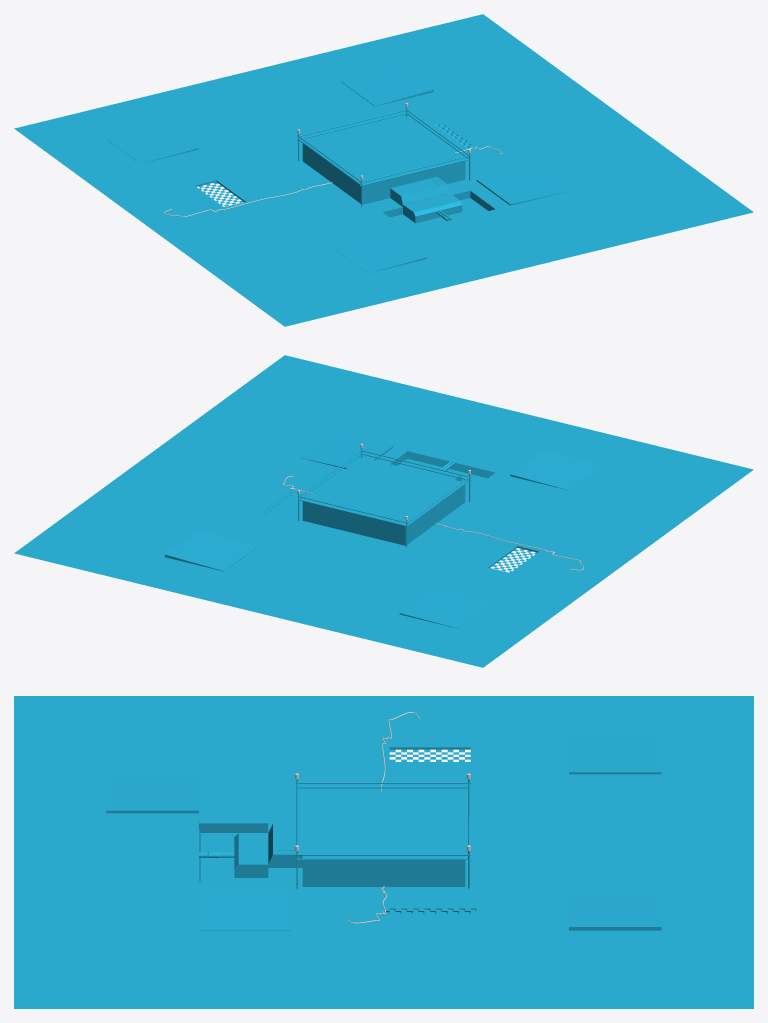
The model's file is world.glb.
3 renders of one model, top to bottom at view 1: azimuth 30°, elevation 25°; view 2: azimuth 150°, elevation 25°; view 3: azimuth 270°, elevation 25°, orthographic. The views are drawn at different scales.
Visible parts, largest first — view 1: Plane, Cube, Cube.001, Cube.002; view 2: Plane, Cube; view 3: Plane, Cube, Cube.001, Cube.003, Cube.002.
Boxes of the visible parts, x1,y1,x2,y2 form: Plane: (14, 14, 753, 326); Cube: (302, 116, 465, 204); Cube.001: (390, 177, 449, 206); Cube.002: (403, 199, 438, 223); Plane: (14, 355, 753, 667); Cube: (302, 457, 465, 545); Plane: (14, 696, 753, 1008); Cube: (302, 791, 465, 886); Cube.001: (268, 823, 302, 867); Cube.003: (234, 849, 268, 877); Cube.002: (234, 833, 268, 852).
Bounding box in the file's own units: 100 × 7.76 × 100.
